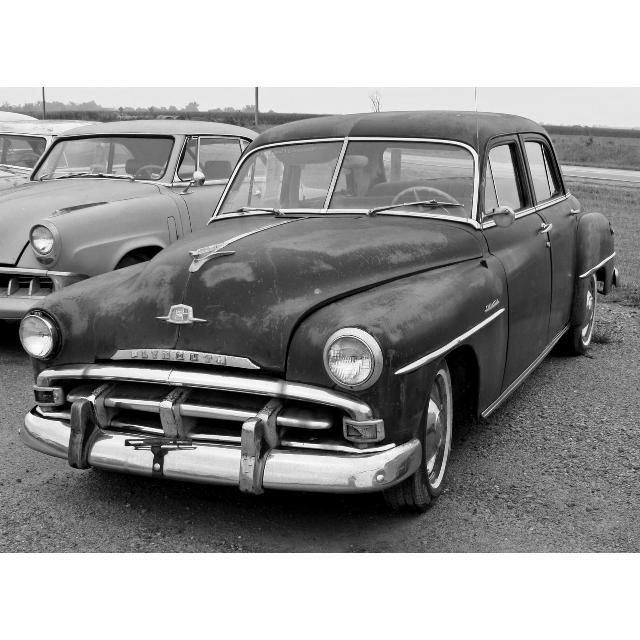bonnet-dent: (128, 234, 336, 371)
